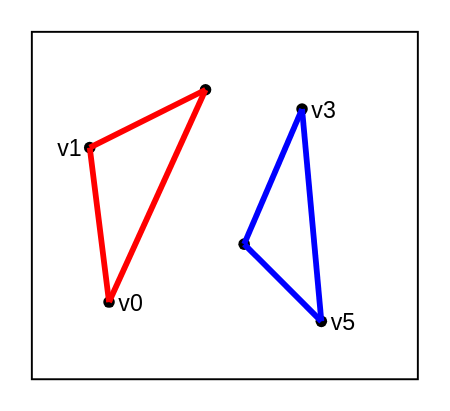
The diagram is 450 pixels wide and 411 high, and some of its shapes have lost their labels. The centre of each missing label's shape, as x and y in pixels:
v2: pixel 204 89
v4: pixel 243 243
